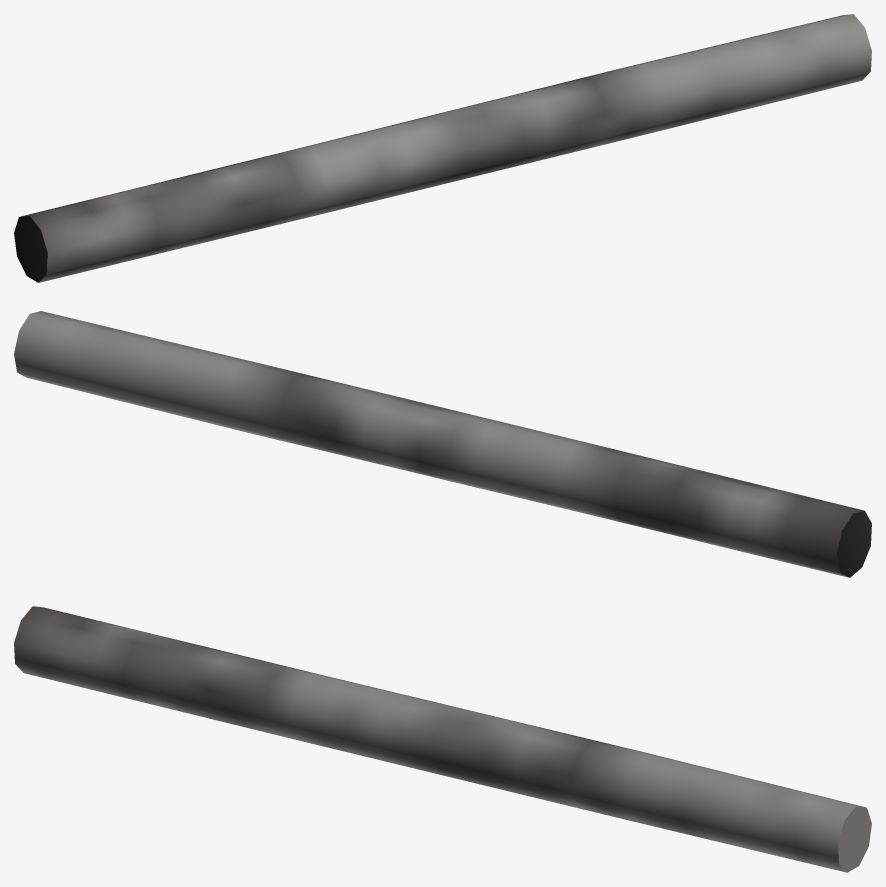
File: Smoke.FBX
3 renders of one model, top to bottom at view 1: azimuth 30°, elevation 25°; view 2: azimuth 150°, elevation 25°; view 3: azimuth 330°, elevation 25°, orthographic.
Visible parts, largest first — view 1: Smoke; view 2: Smoke; view 3: Smoke.
Boxes of the visible parts, x1,y1,x2,y2 form: Smoke: (14, 14, 871, 282); Smoke: (14, 311, 871, 577); Smoke: (14, 606, 871, 872).
Size of the model in its own units: 3.66 by 0.2703 by 0.2764.
